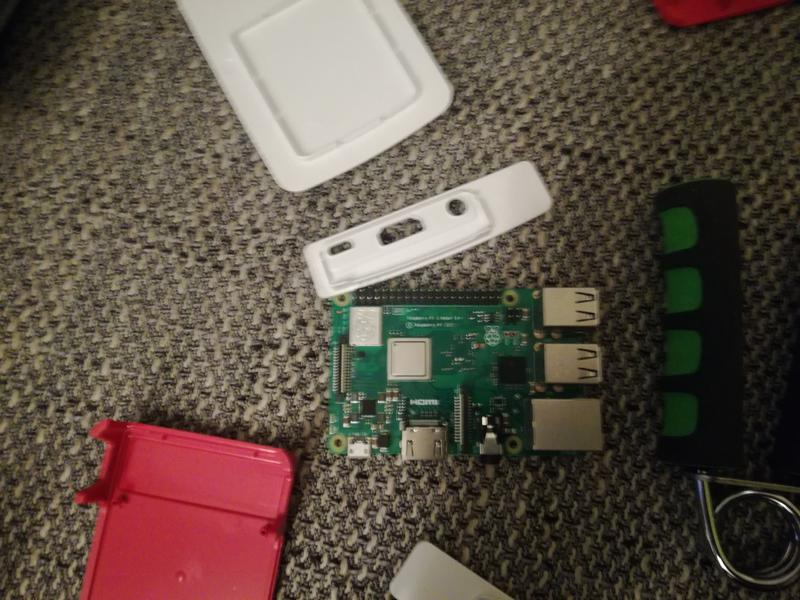Raspberry_Pi_3: (322, 280, 618, 469)
